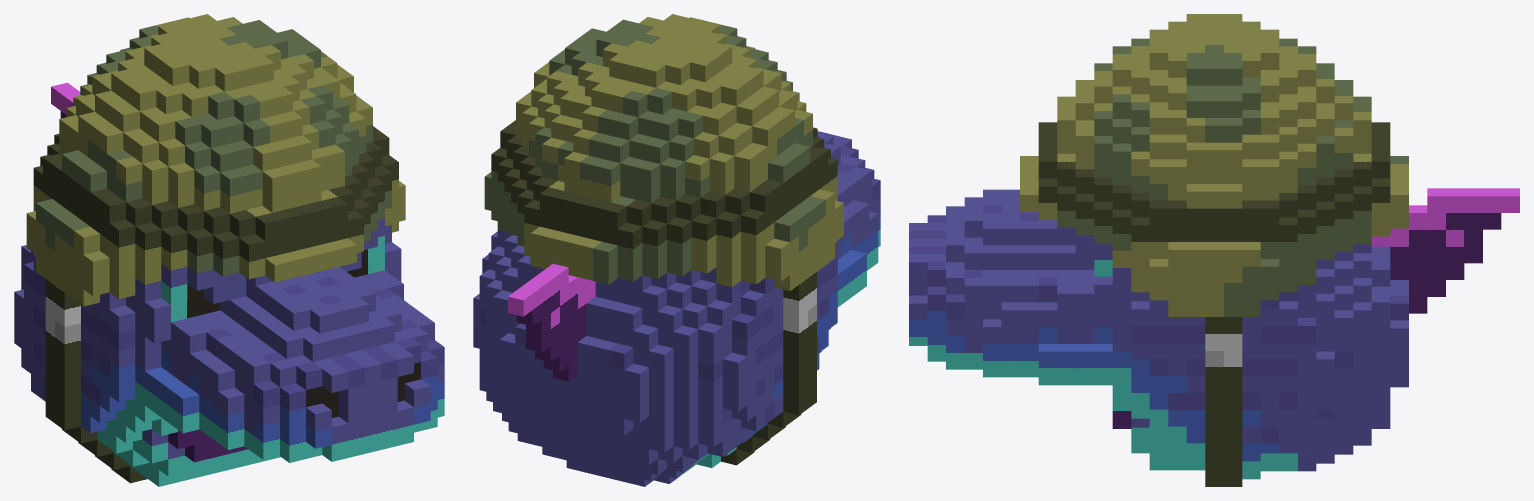
Rendered from soldier.gltf.
The picture shows the model from 3 angles, left to right: view 1: azimuth 30°, elevation 25°; view 2: azimuth 150°, elevation 25°; view 3: azimuth 270°, elevation 25°; orthographic projection. The views are drawn at different scales.
Visible parts, largest first — view 1: 13 Head_SoldierCap-Mesh; view 2: 13 Head_SoldierCap-Mesh; view 3: 13 Head_SoldierCap-Mesh.
Part boxes in pixels (bbox=[...]): 13 Head_SoldierCap-Mesh: bbox=[14, 14, 444, 486]; 13 Head_SoldierCap-Mesh: bbox=[473, 14, 880, 486]; 13 Head_SoldierCap-Mesh: bbox=[909, 14, 1519, 486].
Bounding box in the file's own units: 19 × 24 × 33.
1 material, 1 textured.
